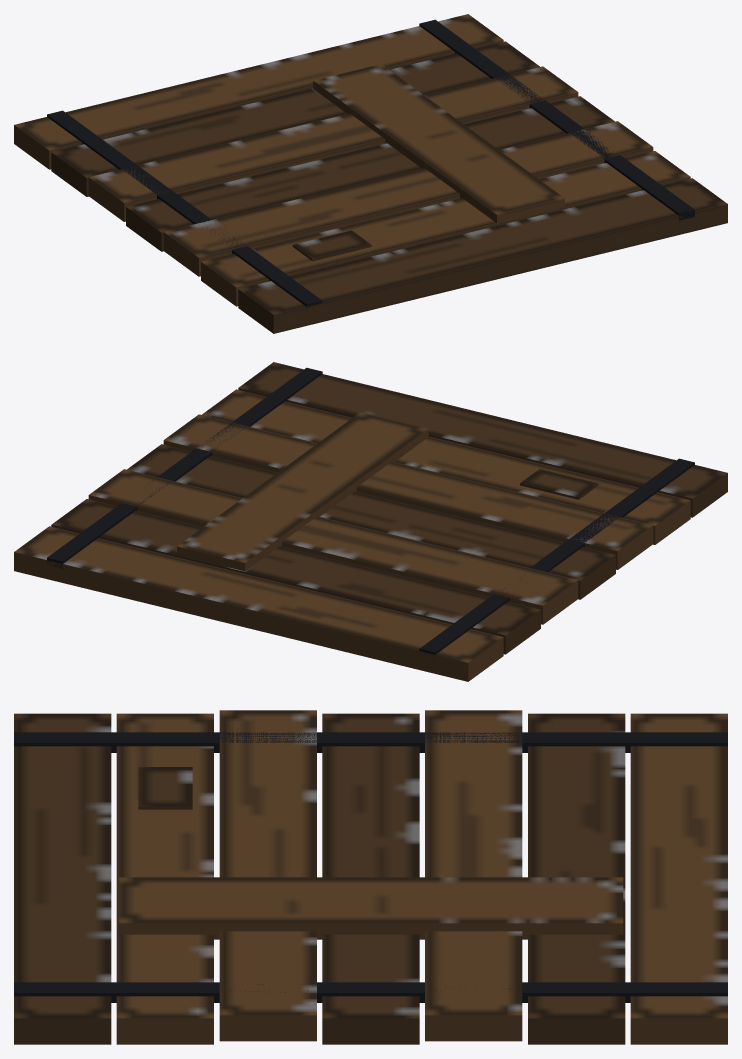
File: DeckPlanksB.obj
3 renders of one model, top to bottom at view 1: azimuth 30°, elevation 25°; view 2: azimuth 150°, elevation 25°; view 3: azimuth 270°, elevation 25°, orthographic. The views are drawn at different scales.
Parts seen in each view (by area): view 1: DeckPlanksB; view 2: DeckPlanksB; view 3: DeckPlanksB.
Boxes of the visible parts, x1=… form: DeckPlanksB: x1=14, y1=14, x2=727, y2=333; DeckPlanksB: x1=14, y1=362, x2=727, y2=681; DeckPlanksB: x1=14, y1=710, x2=727, y2=1044.
Bounding box in the file's own units: 2 × 0.115 × 1.98.
1 material, 1 textured.
